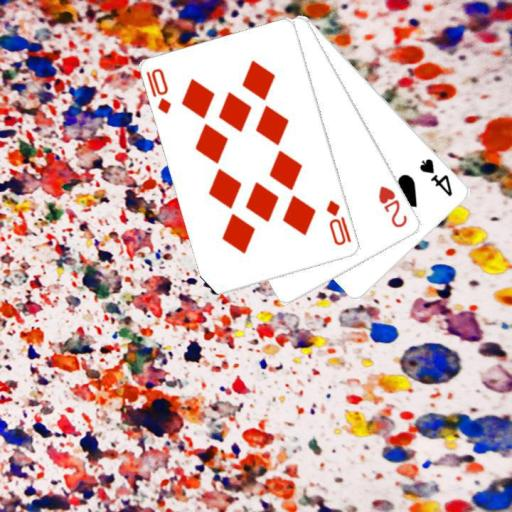10D: (324, 197, 354, 247), (144, 65, 173, 116)
2H: (375, 183, 409, 230)
4S: (417, 155, 454, 198)
